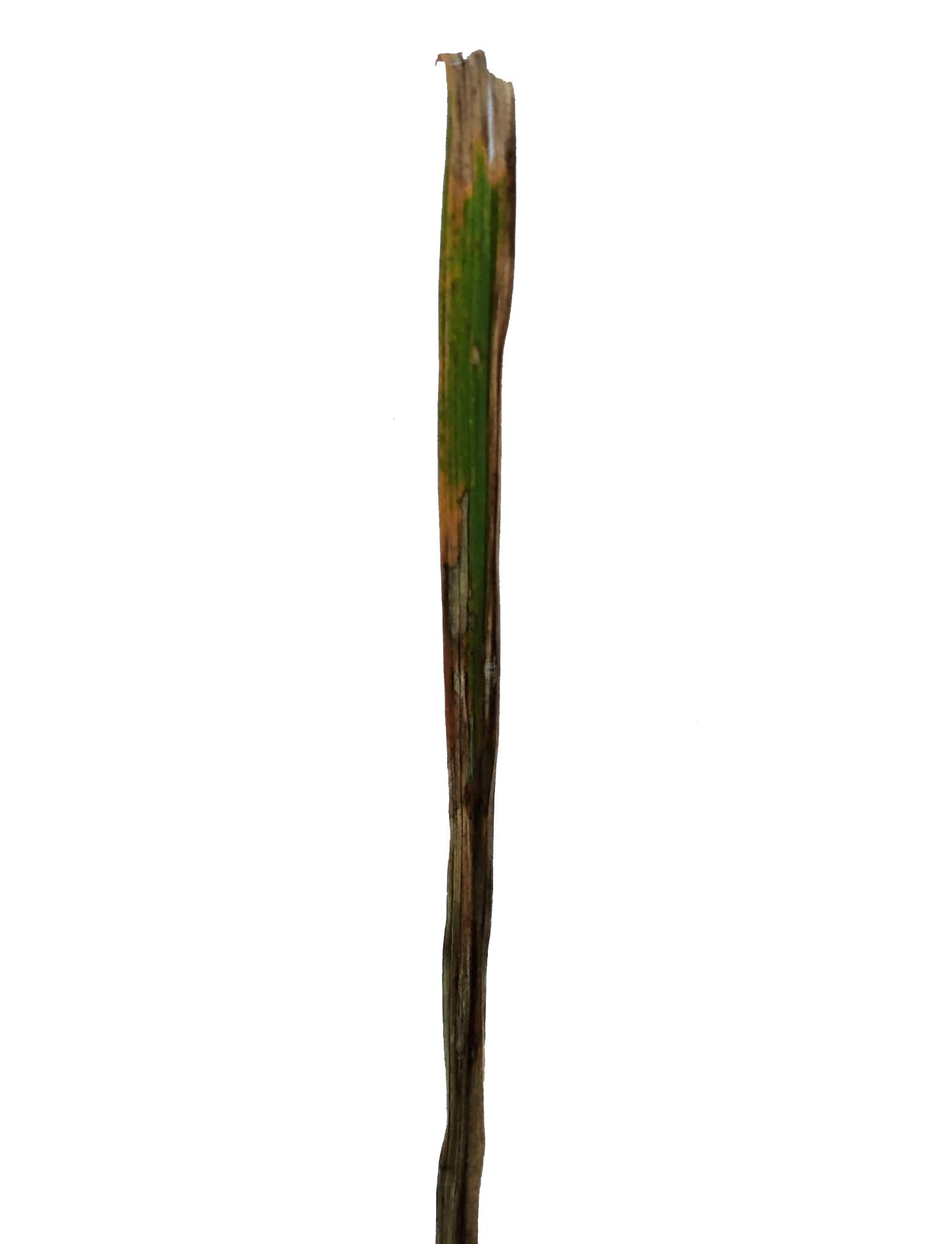Blight: (437, 418, 483, 1244), (441, 62, 522, 233)
